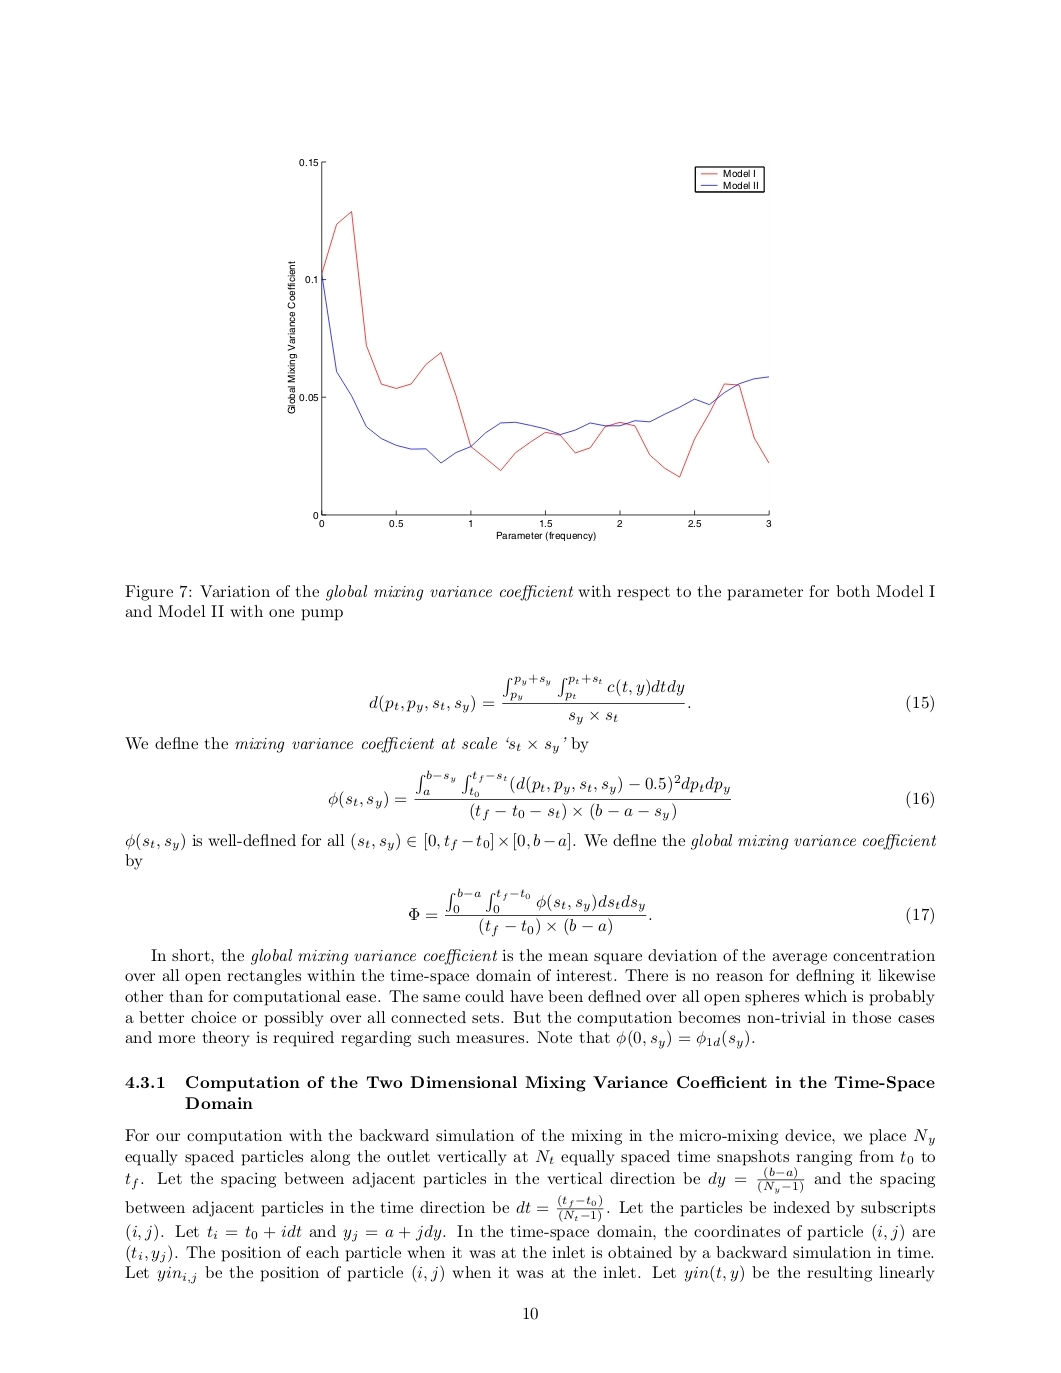figure: (288, 159, 771, 541)
formula: (328, 769, 933, 821), (369, 673, 933, 726), (409, 887, 933, 937)
